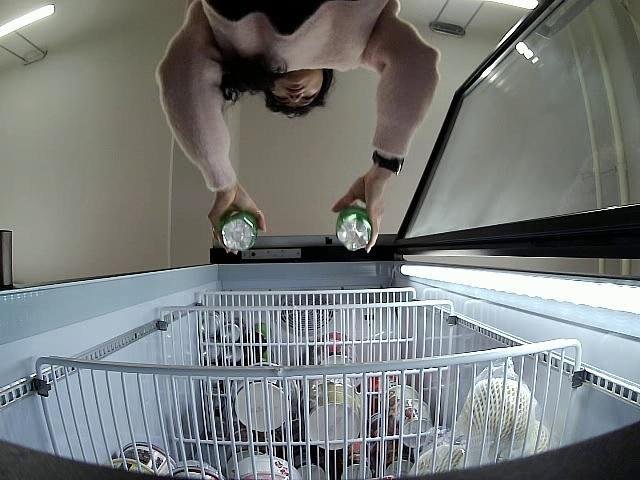18_trevi: (216, 208, 258, 252), (337, 204, 373, 252)
